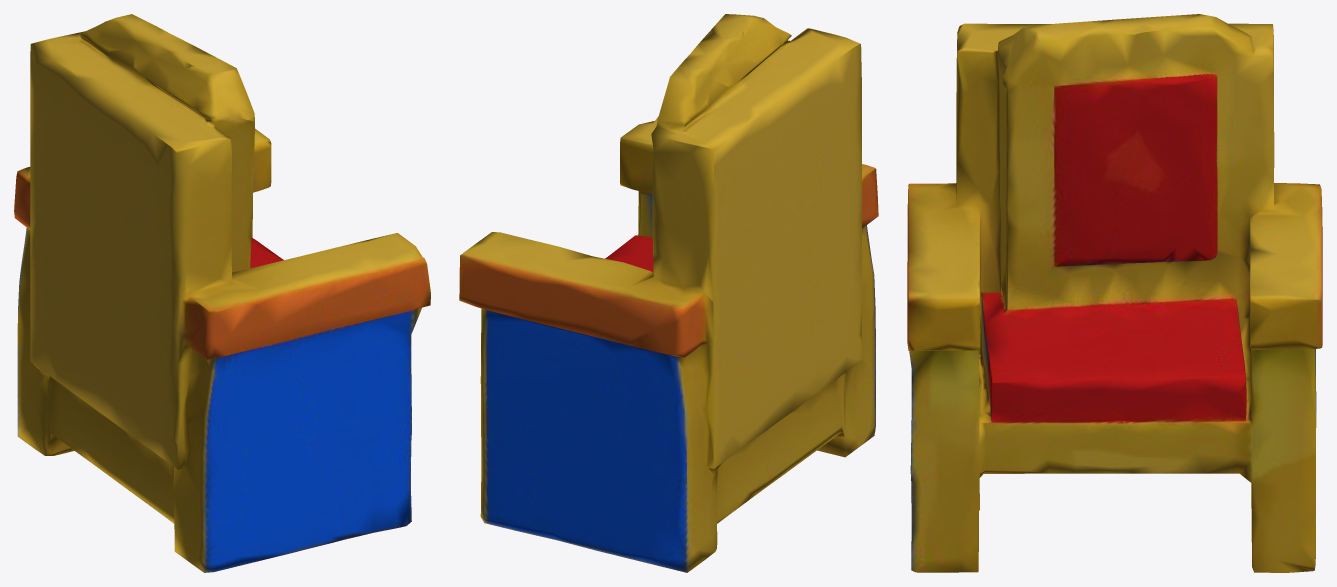
File: throne.glb
3 renders of one model, left to right at view 1: azimuth 30°, elevation 25°; view 2: azimuth 150°, elevation 25°; view 3: azimuth 270°, elevation 25°, orthographic. The views are drawn at different scales.
Visible parts, largest first — view 1: tripo_node_41af7c1f-a6a5-4871-9bc3-0aecc01b53a1; view 2: tripo_node_41af7c1f-a6a5-4871-9bc3-0aecc01b53a1; view 3: tripo_node_41af7c1f-a6a5-4871-9bc3-0aecc01b53a1.
Boxes of the visible parts, x1,y1,x2,y2 form: tripo_node_41af7c1f-a6a5-4871-9bc3-0aecc01b53a1: [14, 14, 430, 572]; tripo_node_41af7c1f-a6a5-4871-9bc3-0aecc01b53a1: [459, 14, 878, 572]; tripo_node_41af7c1f-a6a5-4871-9bc3-0aecc01b53a1: [907, 14, 1322, 572].
Bounding box in the file's own units: 0.545 × 1 × 0.7921.
1 material, 1 textured.
